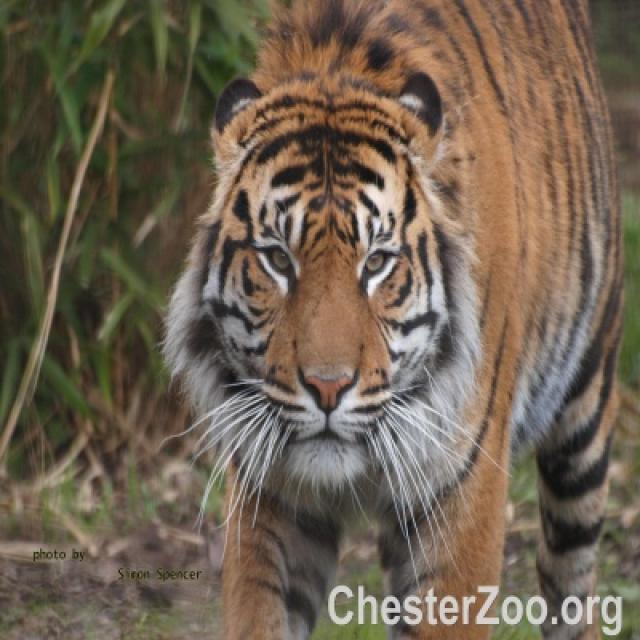Tiger: (192, 0, 628, 594)
